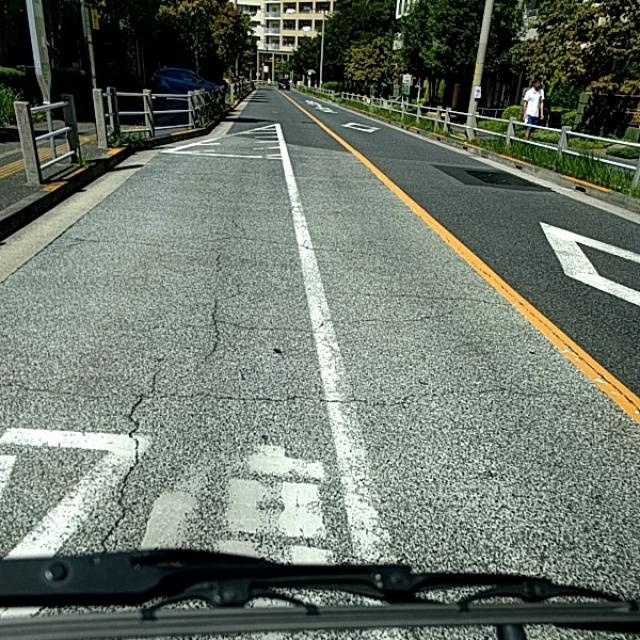pothole: (126, 325, 265, 443)
